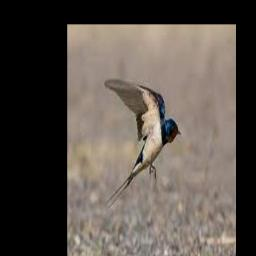Swallow: (104, 78, 181, 207)
